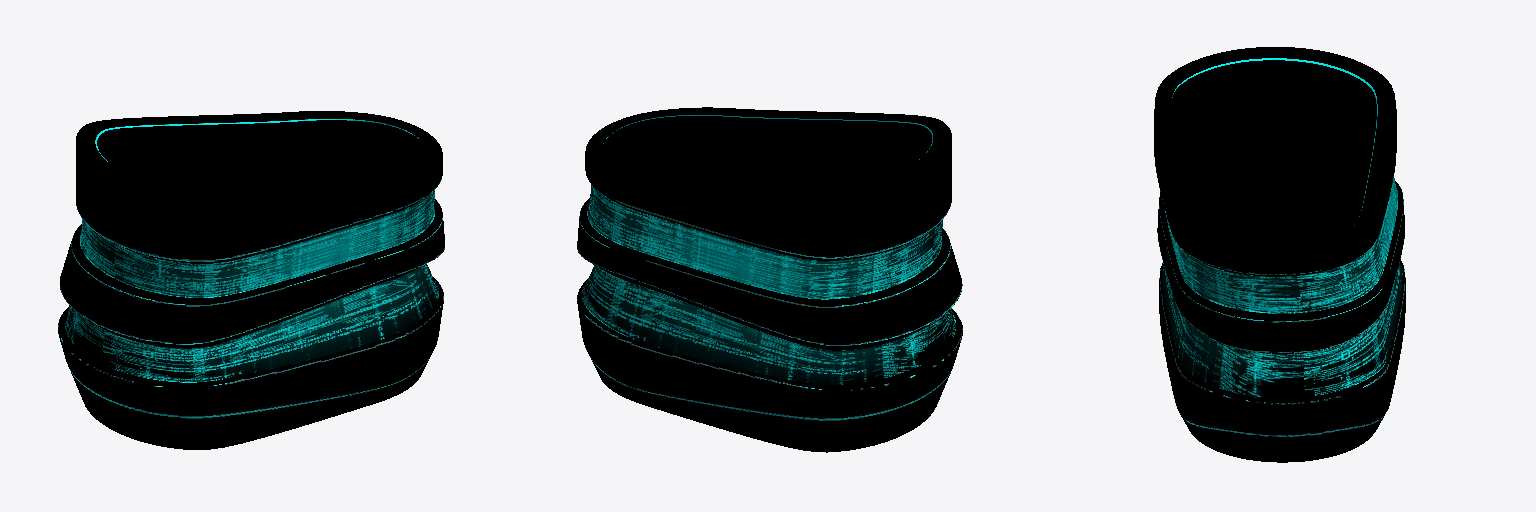
3 renders of one model, left to right at view 1: azimuth 30°, elevation 25°; view 2: azimuth 150°, elevation 25°; view 3: azimuth 270°, elevation 25°, orthographic.
Parts seen in each view (by area): view 1: Circle.001_Circle.004; view 2: Circle.001_Circle.004; view 3: Circle.001_Circle.004.
Boxes of the visible parts, x1=… form: Circle.001_Circle.004: x1=58, y1=111, x2=444, y2=449; Circle.001_Circle.004: x1=577, y1=107, x2=962, y2=452; Circle.001_Circle.004: x1=1154, y1=47, x2=1405, y2=462.
Bounding box in the file's own units: 98.65 × 69.97 × 60.98.
3 materials, 1 textured.